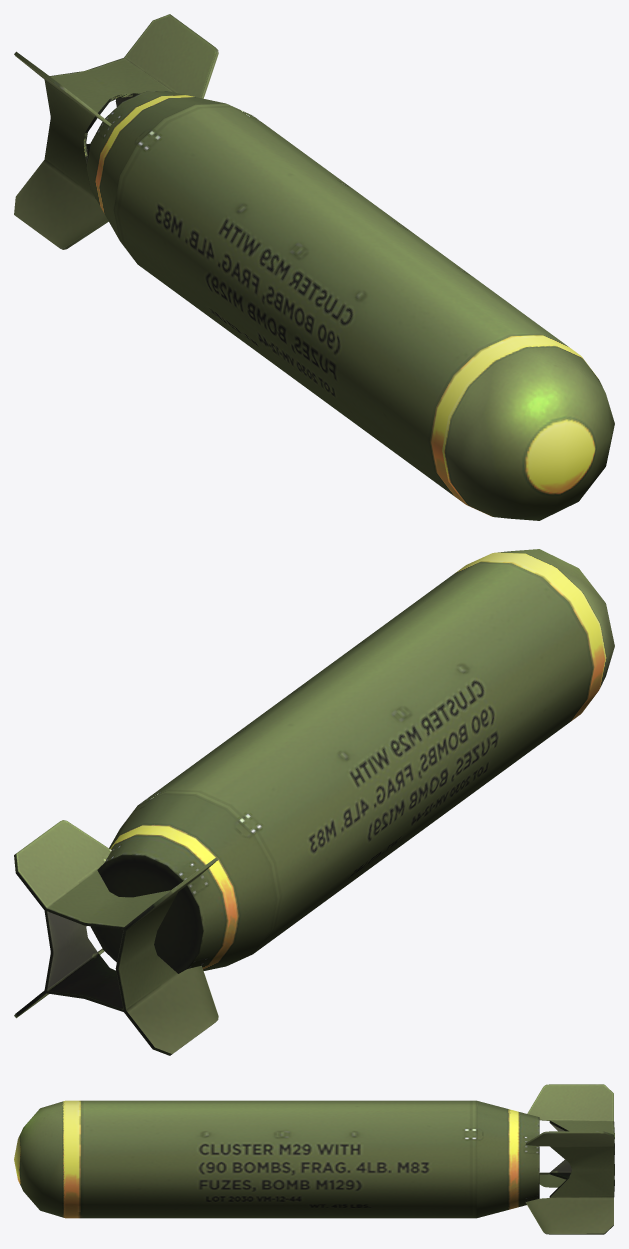
The model's file is Bomb.fbx.
3 views of the same model, one above another, from view 1: azimuth 30°, elevation 25°; view 2: azimuth 150°, elevation 25°; view 3: azimuth 270°, elevation 25° (orthographic). The views are drawn at different scales.
Parts seen in each view (by area): view 1: GeoSphere001; view 2: GeoSphere001; view 3: GeoSphere001.
Part boxes in pixels (left/top/right/bottom): GeoSphere001: left=14, top=14, right=614, bottom=520; GeoSphere001: left=14, top=549, right=614, bottom=1055; GeoSphere001: left=14, top=1084, right=614, bottom=1234.
Size of the model in its own units: 0.5949 by 0.5949 by 3.03.
